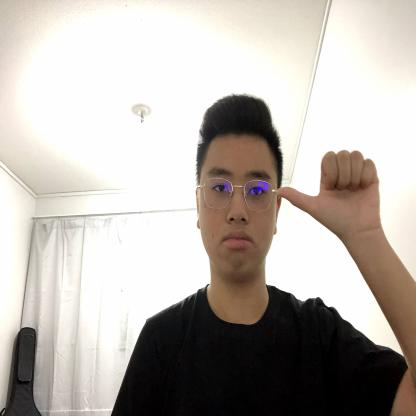right: (278, 146, 391, 238)
